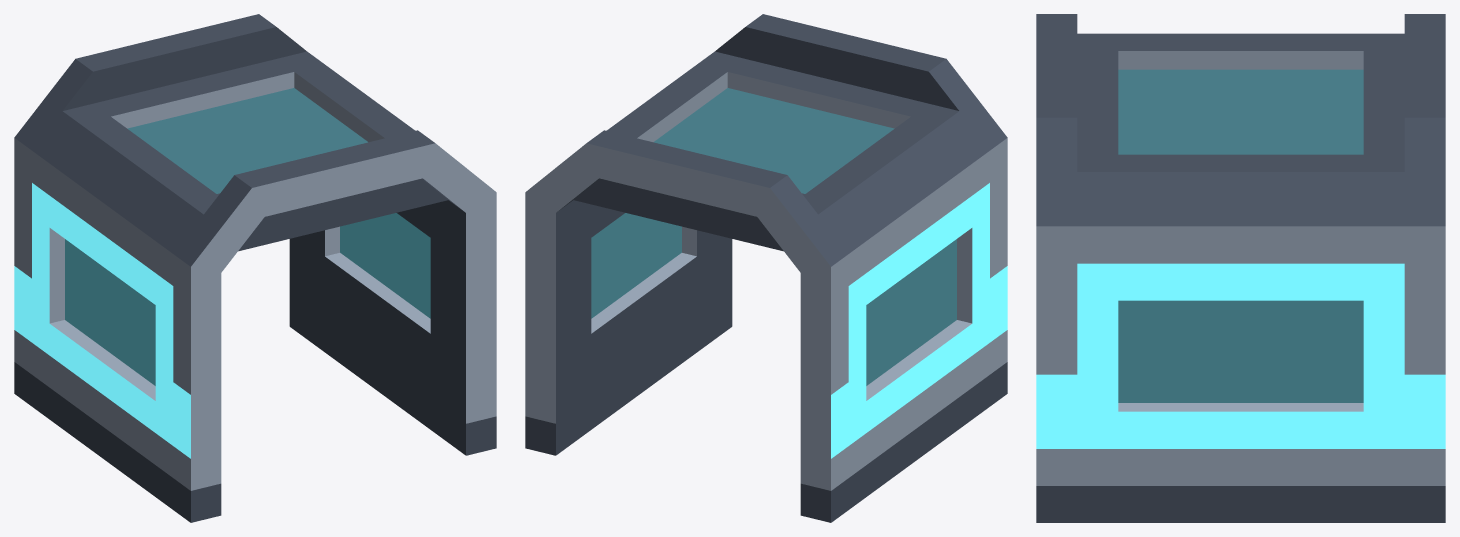
File: corridor_windowClosed.glb
The picture shows the model from 3 angles, left to right: view 1: azimuth 30°, elevation 25°; view 2: azimuth 150°, elevation 25°; view 3: azimuth 270°, elevation 25°; orthographic projection. The views are drawn at different scales.
Visible parts, largest first — view 1: corridor_windowClosed; view 2: corridor_windowClosed; view 3: corridor_windowClosed.
Boxes of the visible parts, left/top/right/bottom form: corridor_windowClosed: left=14, top=14, right=496, bottom=522; corridor_windowClosed: left=525, top=14, right=1007, bottom=522; corridor_windowClosed: left=1036, top=14, right=1445, bottom=522.
Size of the model in its own units: 1 by 1 by 1.
